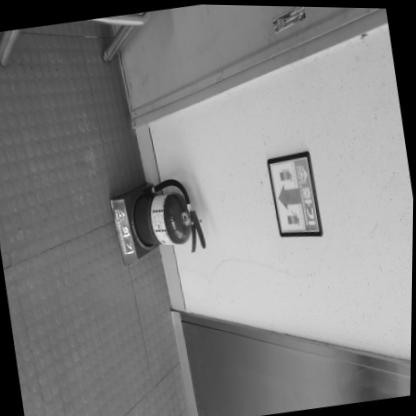FE: (104, 169, 210, 268)
